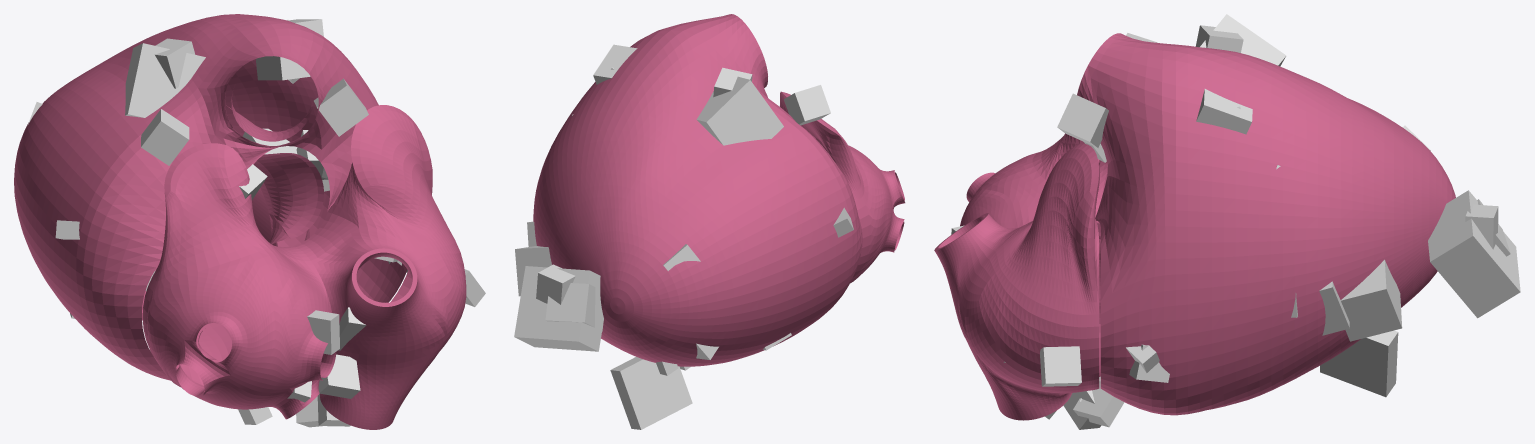
Rendered from non_hra_mapping.glb.
The picture shows the model from 3 angles, left to right: view 1: azimuth 30°, elevation 25°; view 2: azimuth 150°, elevation 25°; view 3: azimuth 270°, elevation 25°; orthographic projection. The views are drawn at different scales.
Parts seen in each view (by area): view 1: world; view 2: world; view 3: world.
Boxes of the visible parts, <box> form: world: <box>14,14,485,429</box>; world: <box>514,14,905,429</box>; world: <box>934,14,1520,429</box>.
Bounding box in the file's own units: 1.31 × 1.32 × 1.87.
